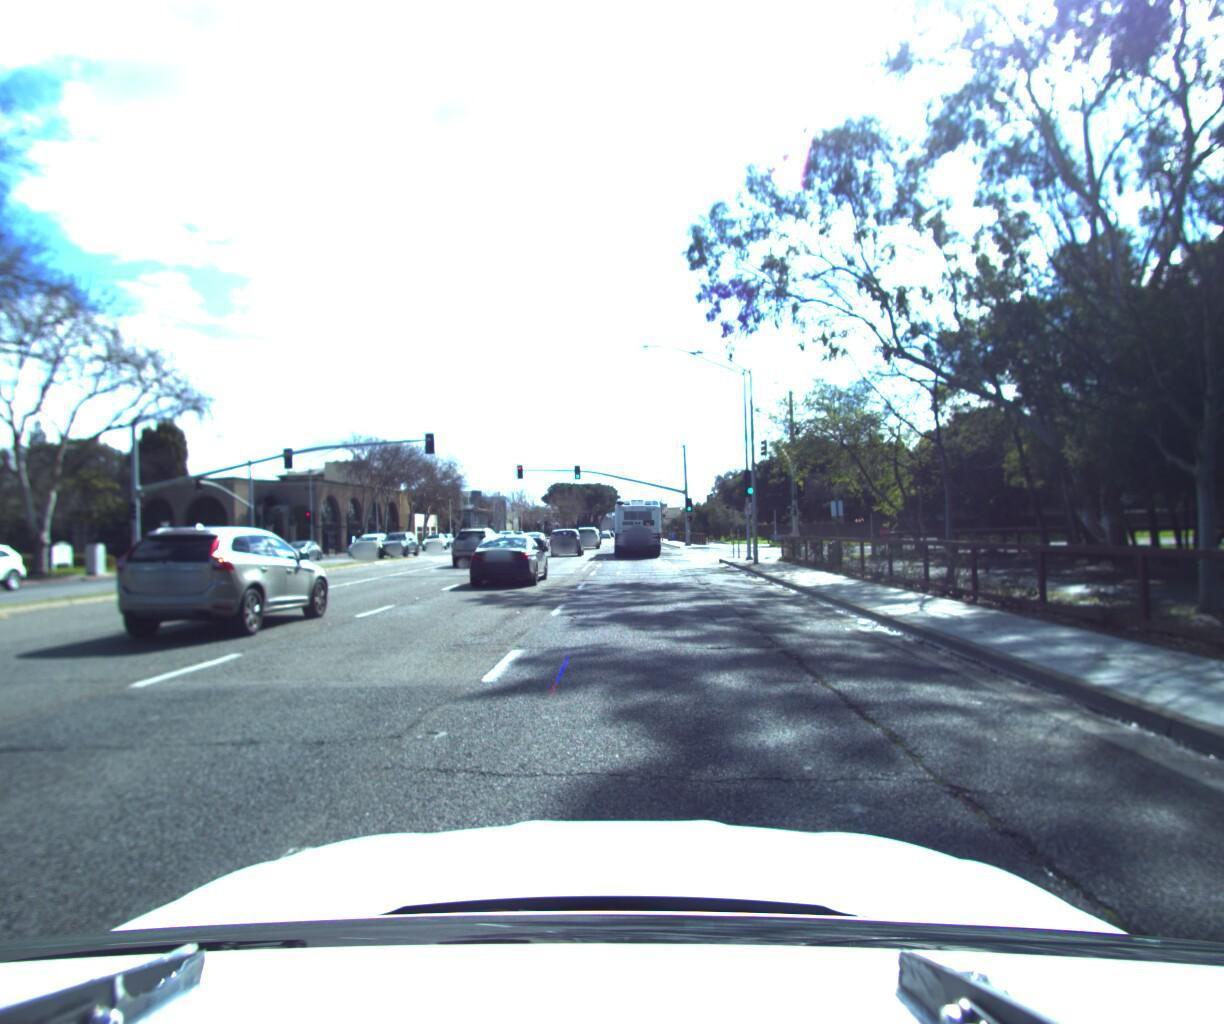bus: (612, 492, 667, 557)
car: (99, 524, 342, 648), (462, 531, 551, 592), (448, 523, 507, 563), (372, 531, 418, 557), (344, 532, 392, 556), (550, 526, 584, 555), (524, 531, 556, 554), (575, 525, 601, 548), (420, 531, 449, 549)
